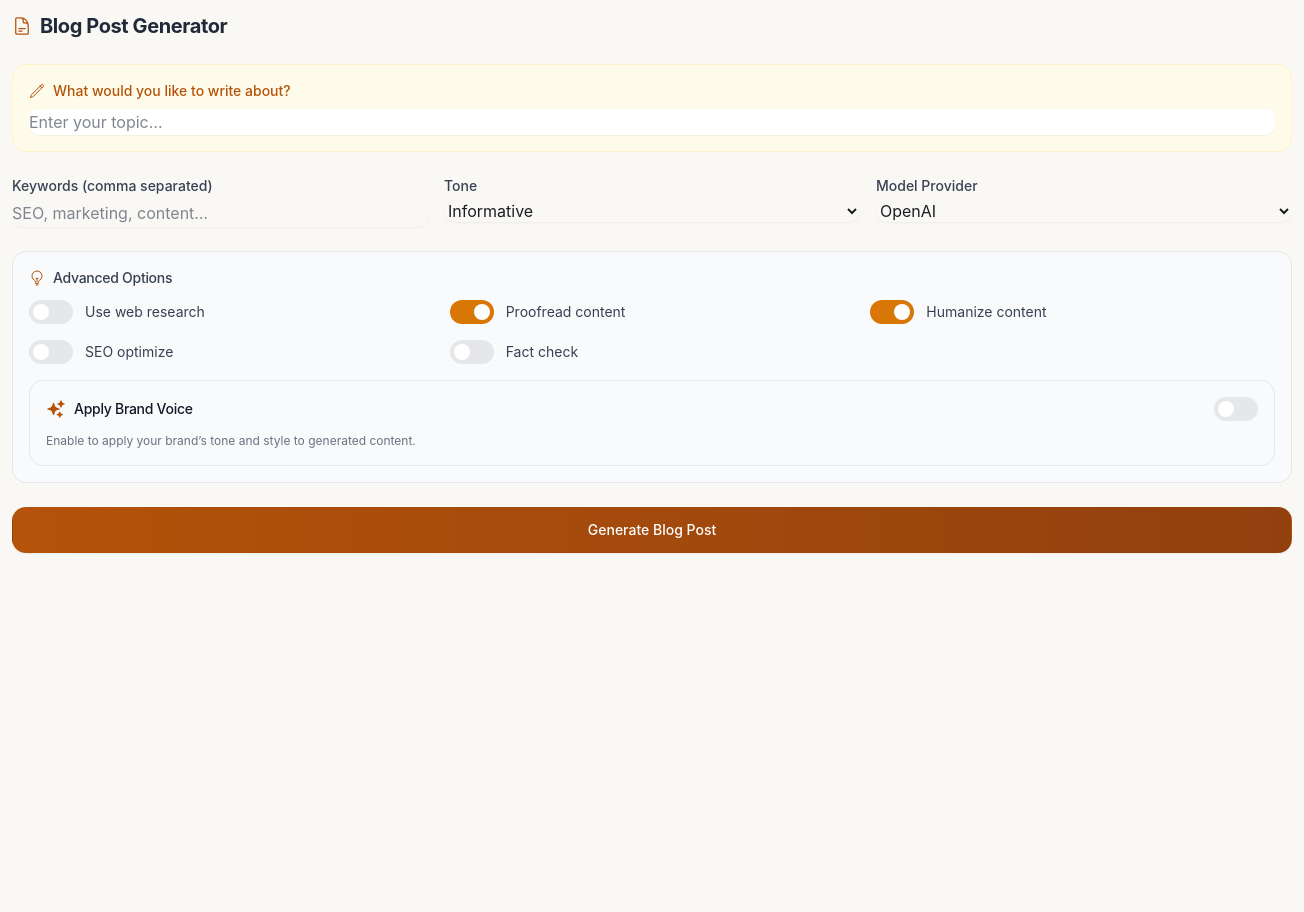
ContentGenerator › Form Submission › should prevent submission when usage limit is reached
The width and height of the screenshot is (1304, 912).
Type "Limited Topic" into the field labelled "What would you like to write about?".
click(652, 122); type("Limited Topic")  # box [29,109,1275,135]
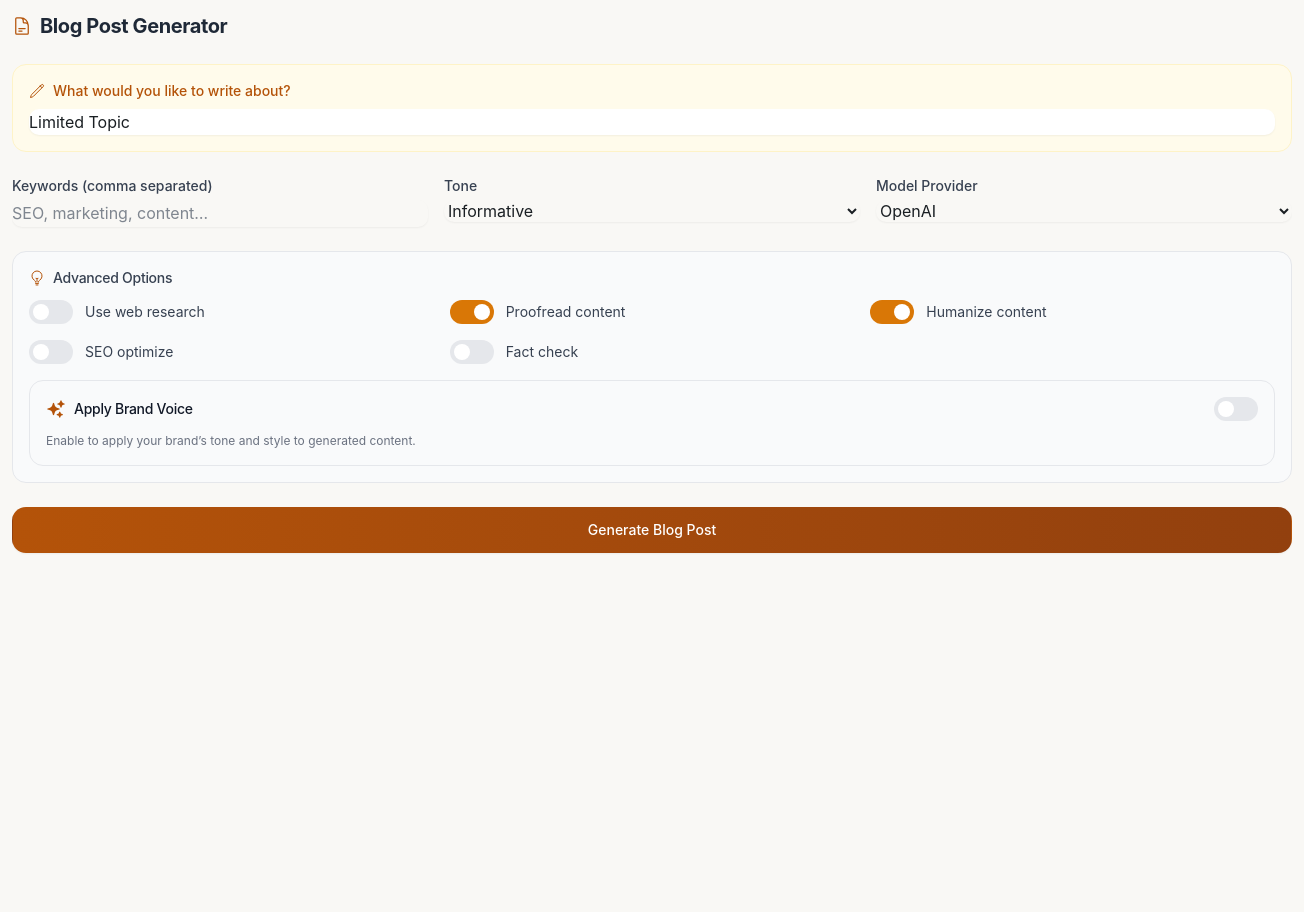
Submit the form from the button "Generate Blog Post", box [12,507,1292,553]
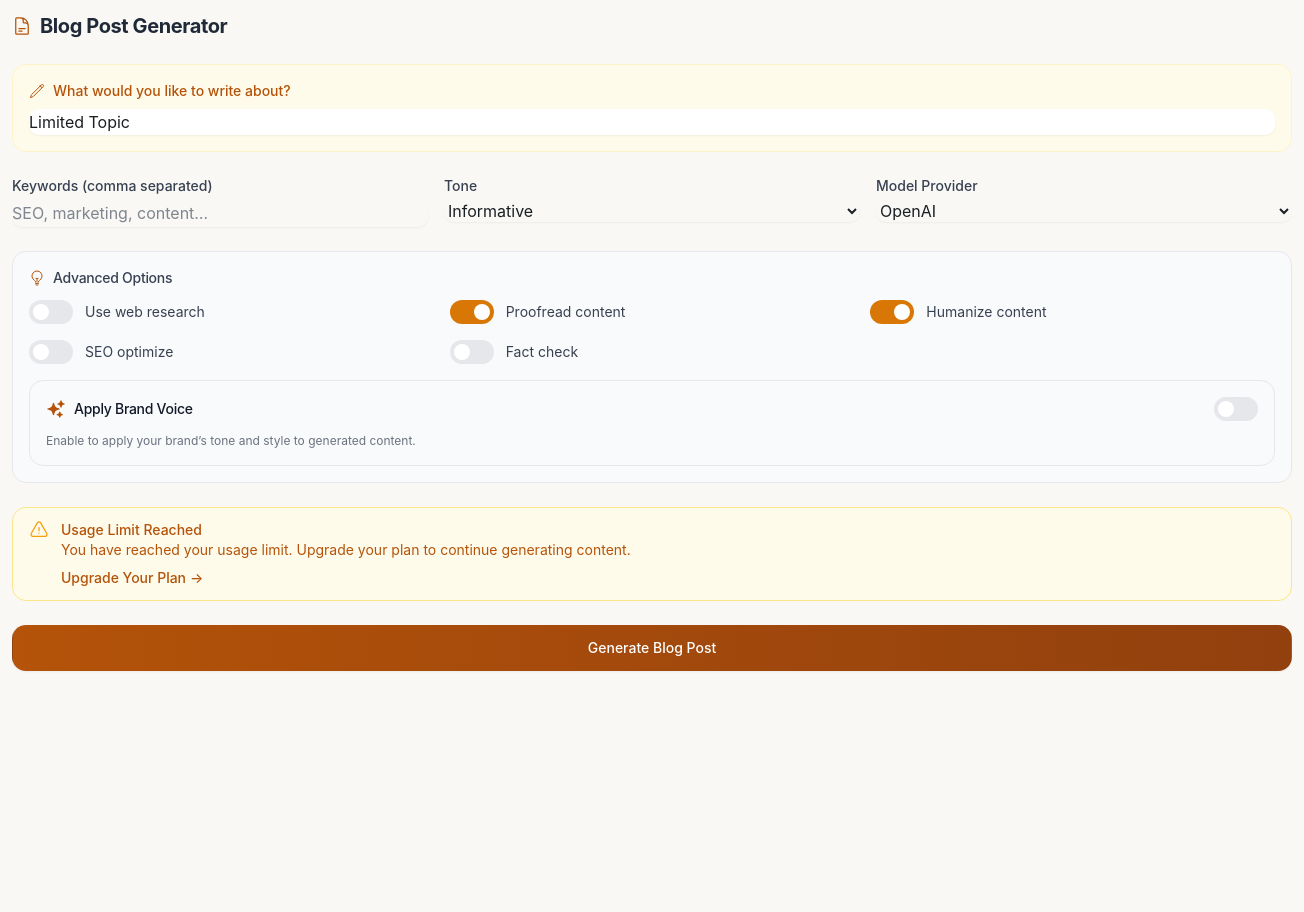
Expected: the text "Usage Limit Reached" is shown, [61,521,202,538]
